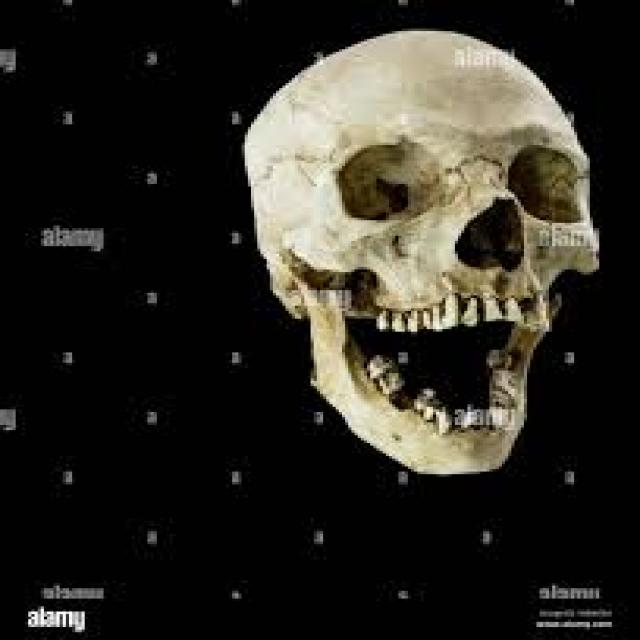skull: (237, 0, 611, 471)
